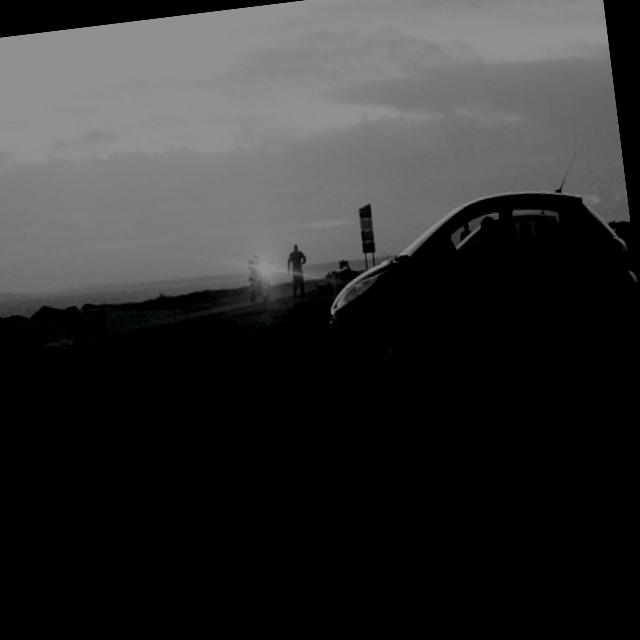Vehicle: (313, 176, 640, 386)
